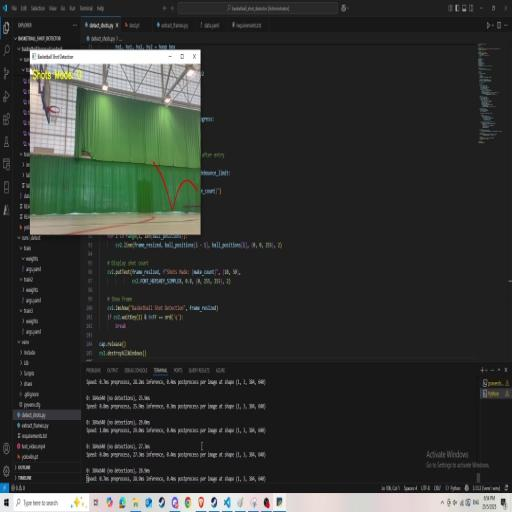hoops: (49, 104, 61, 127)
